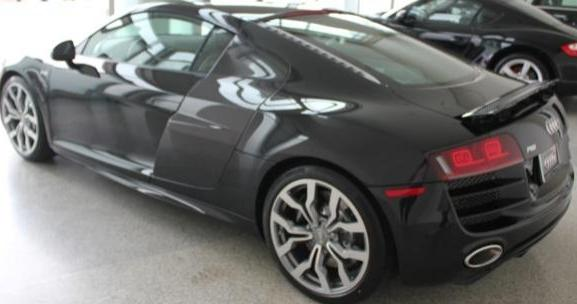back_view: (384, 103, 575, 277)
backlight: (424, 130, 527, 181)
side_glass: (82, 17, 238, 77)
